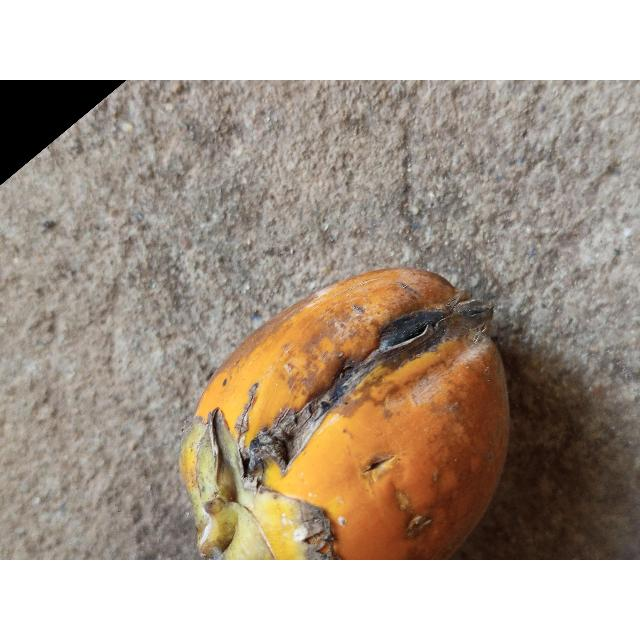damaged: (179, 268, 510, 560)
